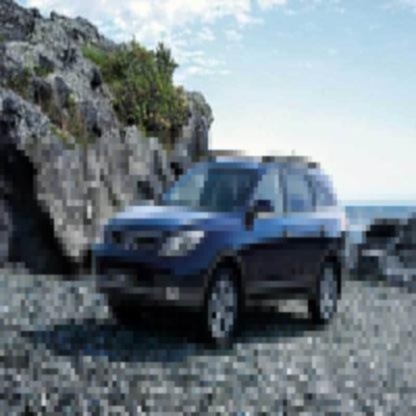Vehicle: (95, 154, 350, 349)
